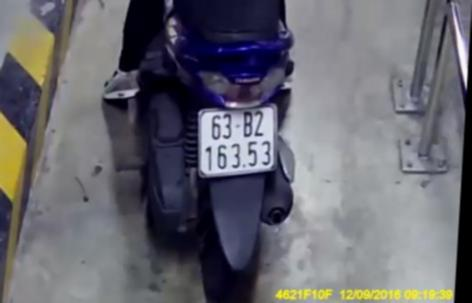License_Plate: (186, 104, 292, 179)
